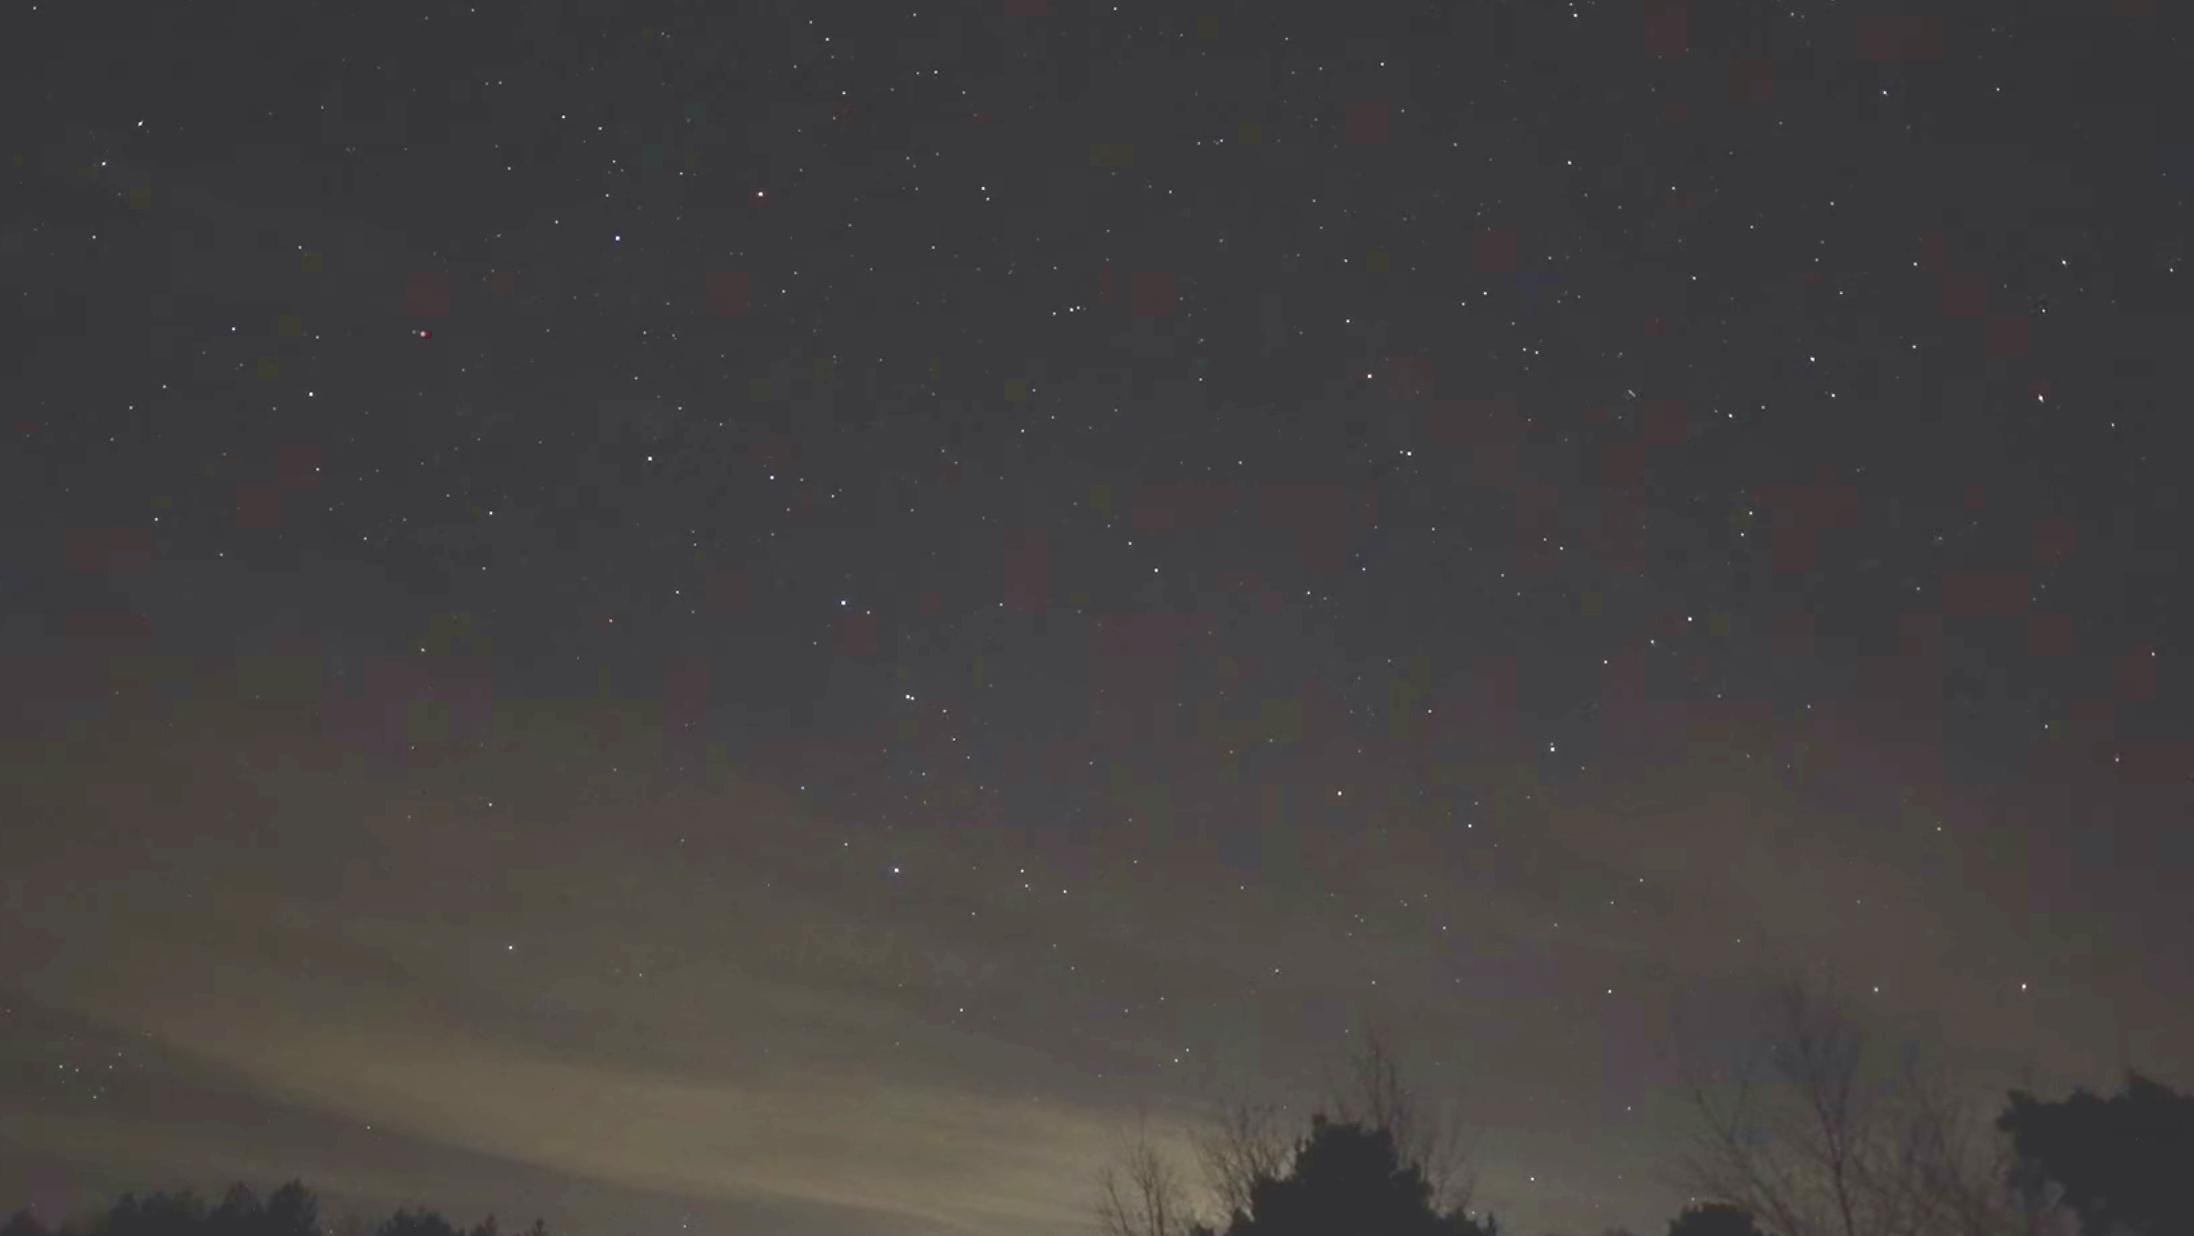Plane: (384, 323, 452, 351)
